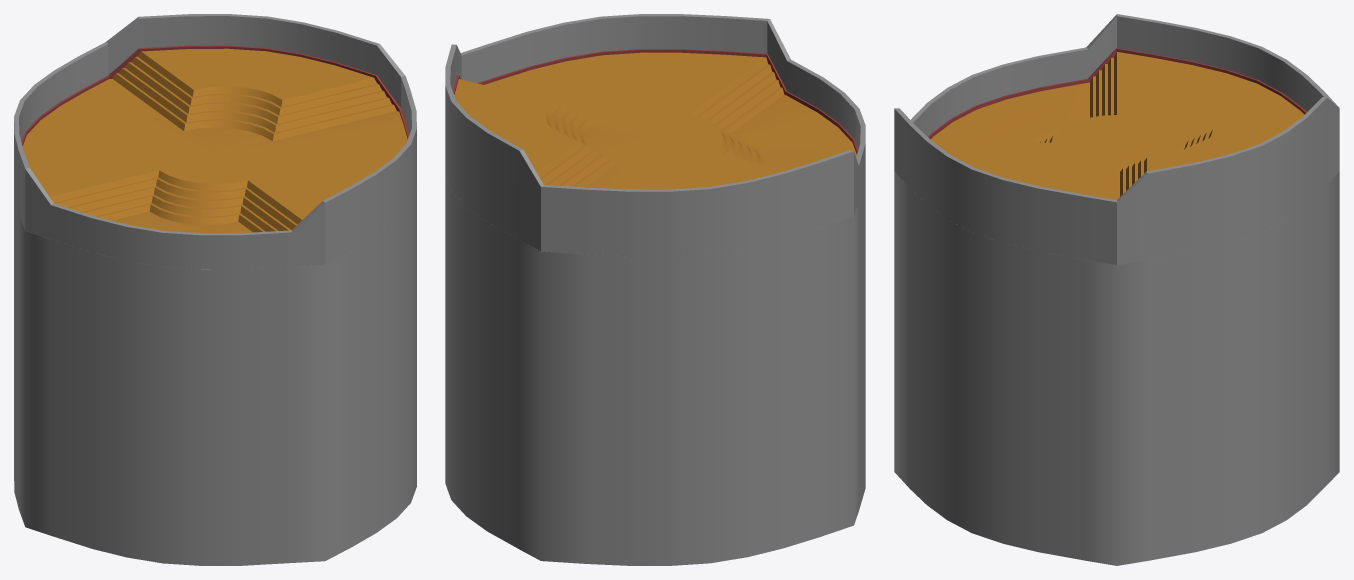
Rendered from weiqiang7.fbx.
3 views of the same model, side by side, from view 1: azimuth 30°, elevation 25°; view 2: azimuth 150°, elevation 25°; view 3: azimuth 270°, elevation 25° (orthographic). The views are drawn at different scales.
Parts seen in each view (by area): view 1: InflatedSquare-Pillar, InflatedSquare-Ground, InflatedSquare-Wall, InflatedSquare-Sill; view 2: InflatedSquare-Pillar, InflatedSquare-Wall, InflatedSquare-Ground, InflatedSquare-Sill; view 3: InflatedSquare-Pillar, InflatedSquare-Wall, InflatedSquare-Ground, InflatedSquare-Sill.
Part boxes in pixels (box(x1,y1,x2,y2)): InflatedSquare-Pillar: box(14, 185, 416, 565); InflatedSquare-Ground: box(22, 48, 407, 233); InflatedSquare-Wall: box(14, 14, 416, 269); InflatedSquare-Sill: box(21, 45, 409, 145); InflatedSquare-Pillar: box(445, 174, 865, 565); InflatedSquare-Wall: box(445, 14, 865, 256); InflatedSquare-Ground: box(454, 52, 856, 189); InflatedSquare-Sill: box(452, 49, 858, 154); InflatedSquare-Pillar: box(894, 171, 1339, 565); InflatedSquare-Wall: box(894, 14, 1339, 264); InflatedSquare-Ground: box(930, 52, 1304, 199); InflatedSquare-Sill: box(928, 48, 1306, 139).
Bounding box in the file's own units: 3537 × 3392 × 3537.
